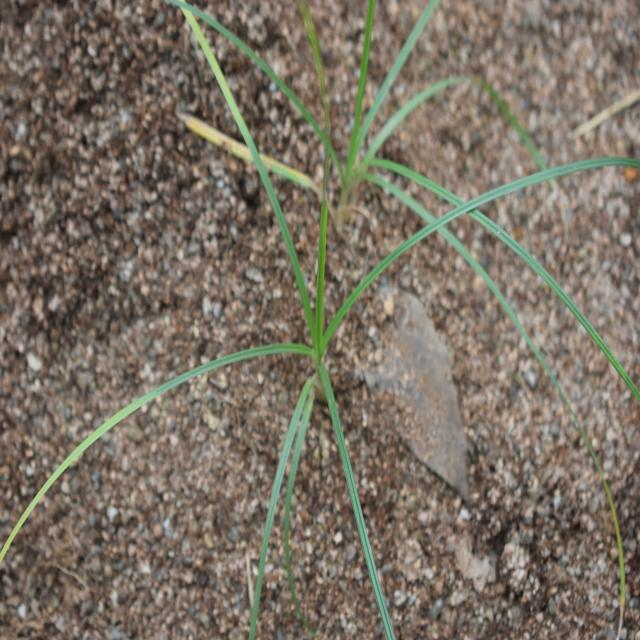sedge: (142, 48, 582, 634)
